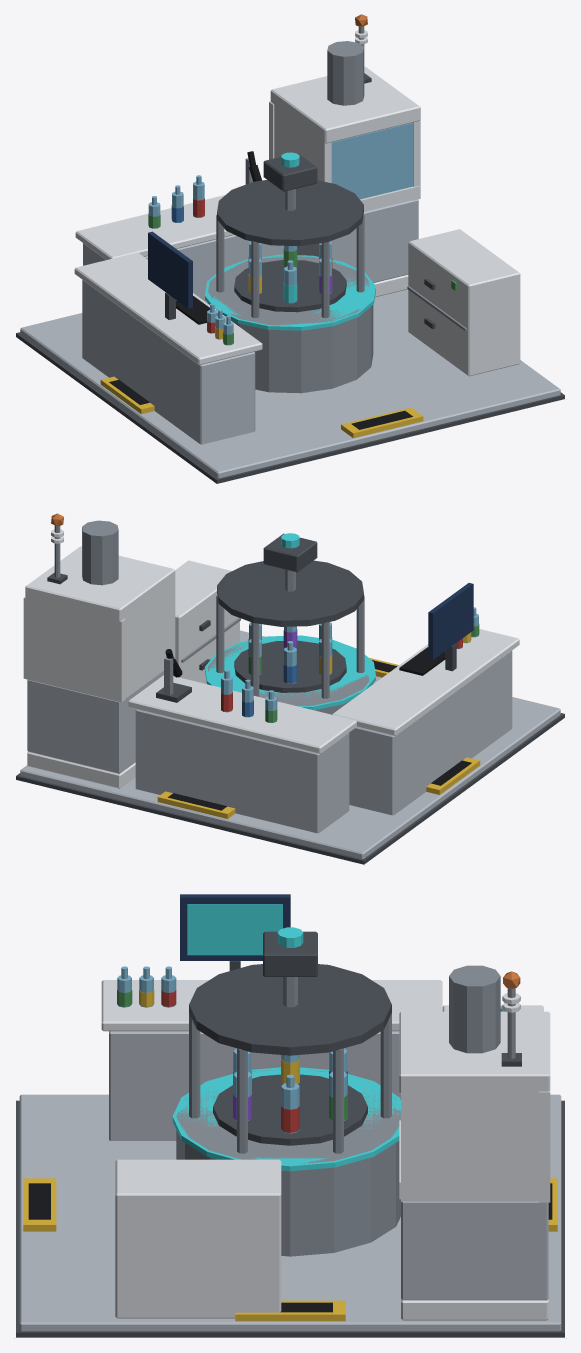
The model's file is laboratoire.glb.
The picture shows the model from 3 angles, top to bottom: view 1: azimuth 30°, elevation 25°; view 2: azimuth 150°, elevation 25°; view 3: azimuth 270°, elevation 25°; orthographic projection. The views are drawn at different scales.
Parts seen in each view (by area): view 1: pieces_gris_clair.002, pieces_blanc.002, pieces_acier_sombre.002, analyseur_socle.002, pieces_verre.002, pieces_acier.002, carrousel_acier_sombre.002, pieces_cyan.002, hotte_gaine.002, pieces_panneau.002, pieces_noir.002, pieces_jaune.002 (+1 smaller); view 2: pieces_gris_clair.002, pieces_blanc.002, pieces_acier_sombre.002, pieces_acier.002, carrousel_acier_sombre.002, pieces_cyan.002, pieces_panneau.002, hotte_gaine.002, pieces_noir.002, analyseur_socle.002, pieces_jaune.002, pieces_verre.002 (+1 smaller); view 3: pieces_gris_clair.002, pieces_blanc.002, pieces_acier_sombre.002, analyseur_socle.002, carrousel_acier_sombre.002, pieces_acier.002, voyant_ecran.002, pieces_cyan.002, hotte_gaine.002, pieces_jaune.002, pieces_panneau.002, pieces_noir.002 (+2 smaller).
Boxes of the visible parts, bbox=[...] form: pieces_gris_clair.002: bbox=[20, 199, 560, 478]; pieces_blanc.002: bbox=[74, 30, 520, 376]; pieces_acier_sombre.002: bbox=[16, 73, 564, 483]; analyseur_socle.002: bbox=[207, 256, 373, 393]; pieces_verre.002: bbox=[148, 122, 412, 345]; pieces_acier.002: bbox=[216, 26, 467, 331]; carrousel_acier_sombre.002: bbox=[234, 260, 346, 312]; pieces_cyan.002: bbox=[205, 254, 375, 330]; hotte_gaine.002: bbox=[327, 41, 364, 105]; pieces_panneau.002: bbox=[148, 231, 192, 308]; pieces_noir.002: bbox=[109, 151, 412, 429]; pieces_jaune.002: bbox=[100, 326, 423, 438]; pieces_gris_clair.002: bbox=[20, 630, 560, 859]; pieces_blanc.002: bbox=[23, 529, 519, 788]; pieces_acier_sombre.002: bbox=[16, 533, 564, 864]; pieces_acier.002: bbox=[54, 525, 364, 698]; carrousel_acier_sombre.002: bbox=[234, 640, 346, 692]; pieces_cyan.002: bbox=[205, 635, 375, 710]; pieces_panneau.002: bbox=[428, 583, 473, 659]; hotte_gaine.002: bbox=[82, 520, 118, 585]; pieces_noir.002: bbox=[165, 647, 471, 810]; analyseur_socle.002: bbox=[207, 642, 372, 714]; pieces_jaune.002: bbox=[157, 632, 480, 818]; pieces_verre.002: bbox=[221, 607, 478, 722]; pieces_gris_clair.002: bbox=[19, 1031, 561, 1331]; pieces_blanc.002: bbox=[101, 980, 550, 1320]; pieces_acier_sombre.002: bbox=[16, 931, 564, 1337]; analyseur_socle.002: bbox=[176, 1069, 400, 1256]; carrousel_acier_sombre.002: bbox=[213, 1074, 367, 1145]; pieces_acier.002: bbox=[189, 977, 515, 1153]; voyant_ecran.002: bbox=[187, 904, 282, 955]; pieces_cyan.002: bbox=[172, 1067, 400, 1171]; hotte_gaine.002: bbox=[449, 965, 500, 1053]; pieces_jaune.002: bbox=[23, 990, 557, 1321]; pieces_panneau.002: bbox=[180, 894, 290, 960]; pieces_noir.002: bbox=[28, 1183, 552, 1312].
Bounding box in the file's own units: 1.5 × 1.05 × 1.5.
